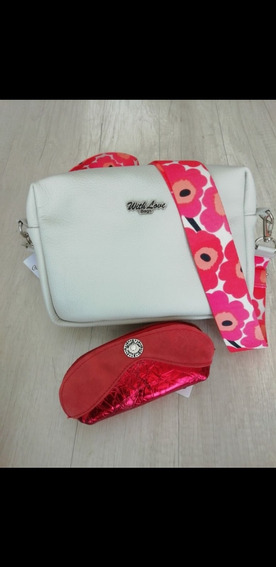cartera: (17, 157, 276, 328)
